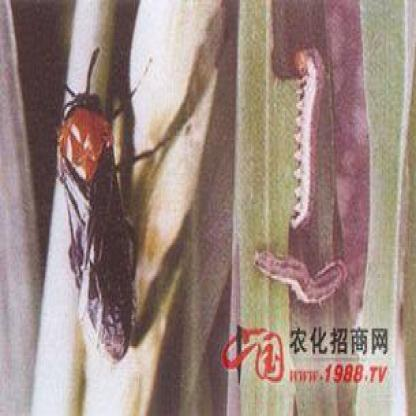sawfly: (45, 34, 176, 366), (286, 35, 325, 235), (250, 241, 352, 309)
